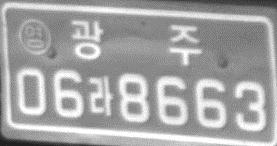0: (15, 67, 47, 116)
3: (233, 80, 267, 132)
6: (155, 75, 189, 126), (194, 78, 227, 129), (52, 68, 84, 118)
8: (116, 73, 151, 124)
광주_D: (69, 19, 202, 66)
라: (87, 75, 114, 116)
영: (16, 18, 54, 56)
